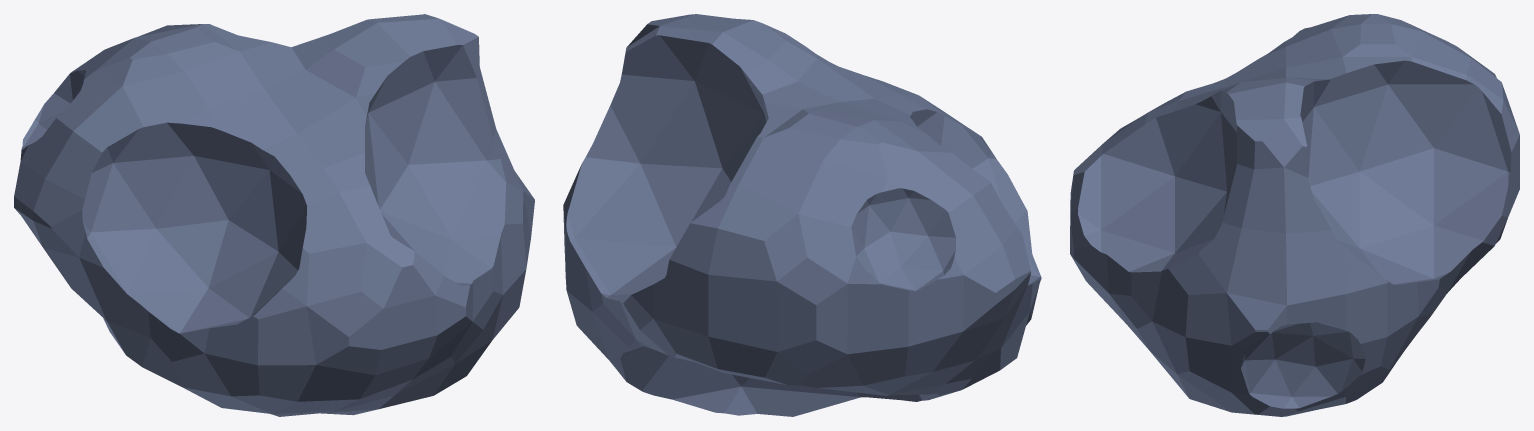
Rendered from Meteor.fbx.
3 renders of one model, left to right at view 1: azimuth 30°, elevation 25°; view 2: azimuth 150°, elevation 25°; view 3: azimuth 270°, elevation 25°, orthographic. The views are drawn at different scales.
Visible parts, largest first — view 1: Icosphere; view 2: Icosphere; view 3: Icosphere.
Boxes of the visible parts, x1,y1,x2,y2 form: Icosphere: (14, 14, 534, 416); Icosphere: (563, 14, 1041, 416); Icosphere: (1070, 14, 1519, 416).
Size of the model in its own units: 241 by 184 by 224.
